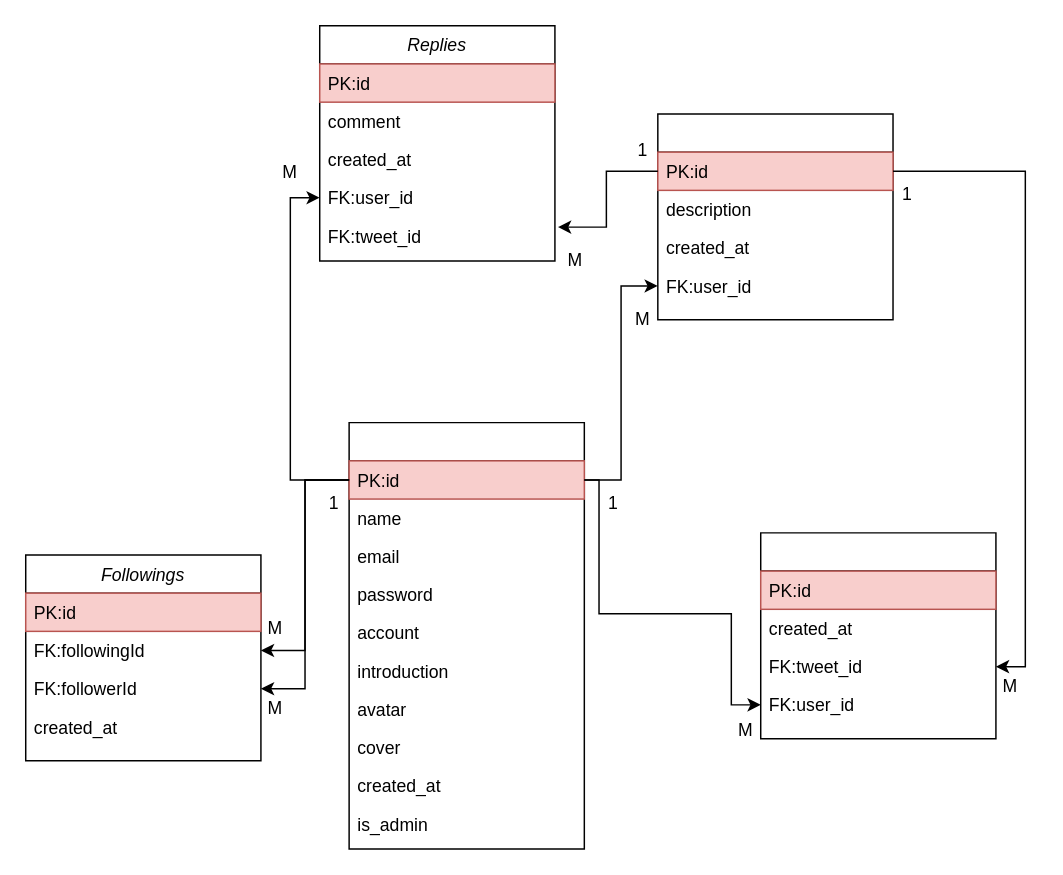
The diagram is 1063 pixels wide and 875 high, and some of its shapes have lost their labels. The box of each missing label's shape, as (x1, y1, x2, y2) in pixels:
Likes: (759, 531, 996, 739)
Tweets: (656, 112, 893, 320)
Users: (348, 421, 584, 849)
